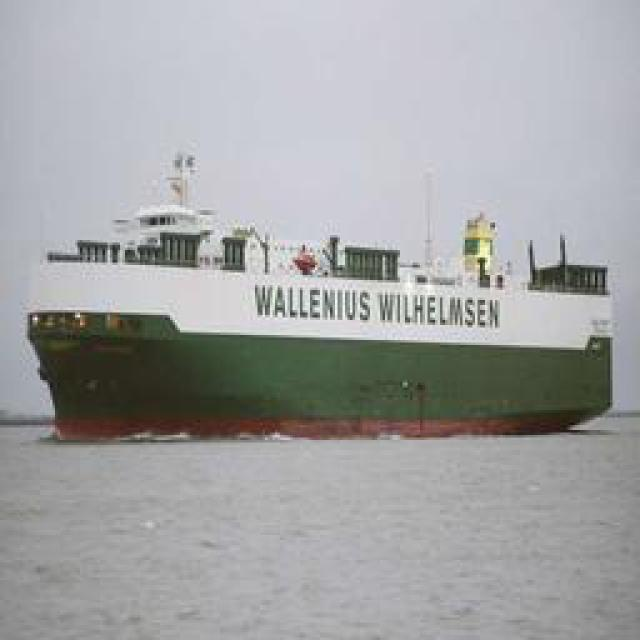Ship: (22, 143, 615, 438)
